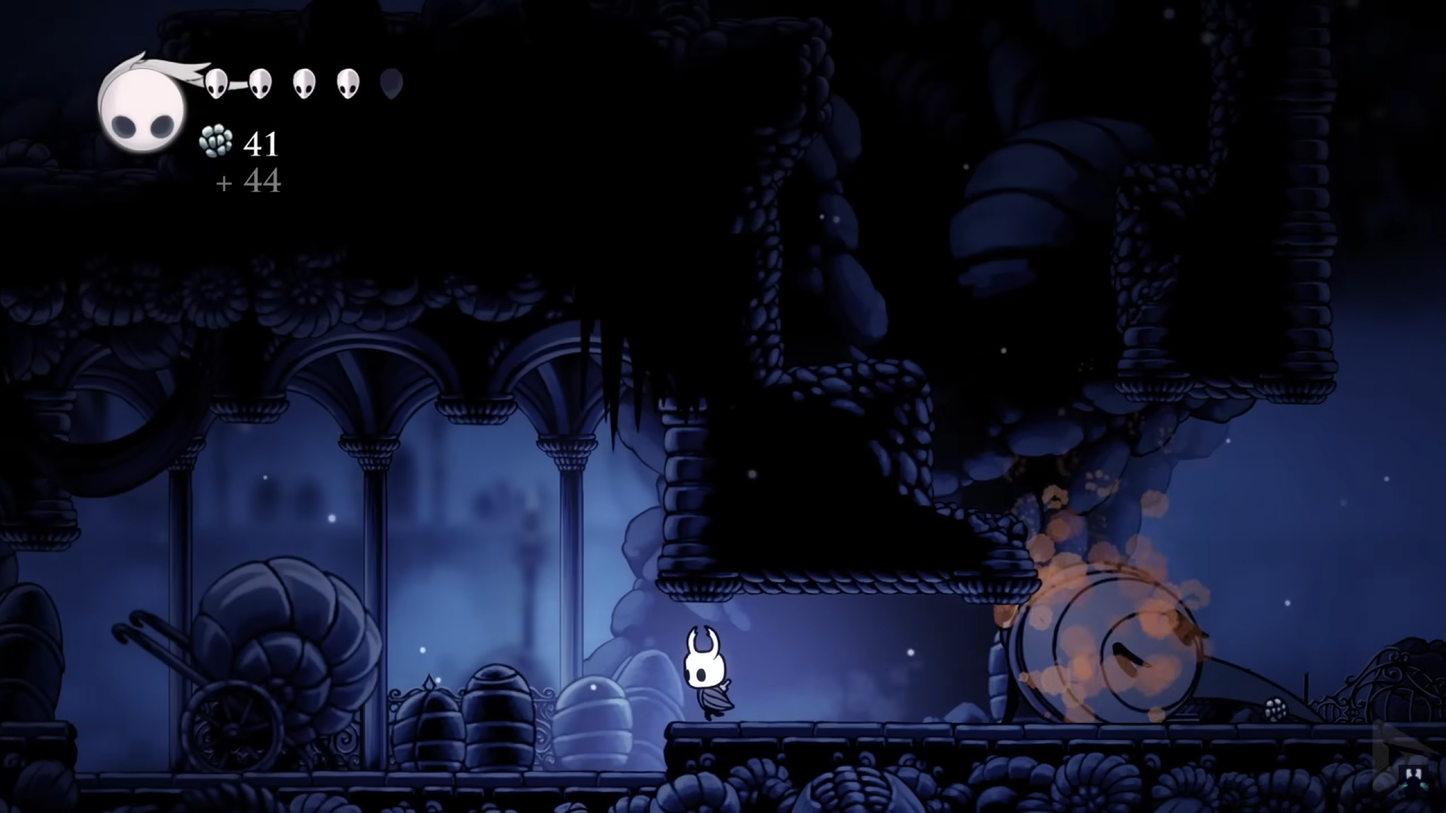HK: (679, 623, 736, 723)
